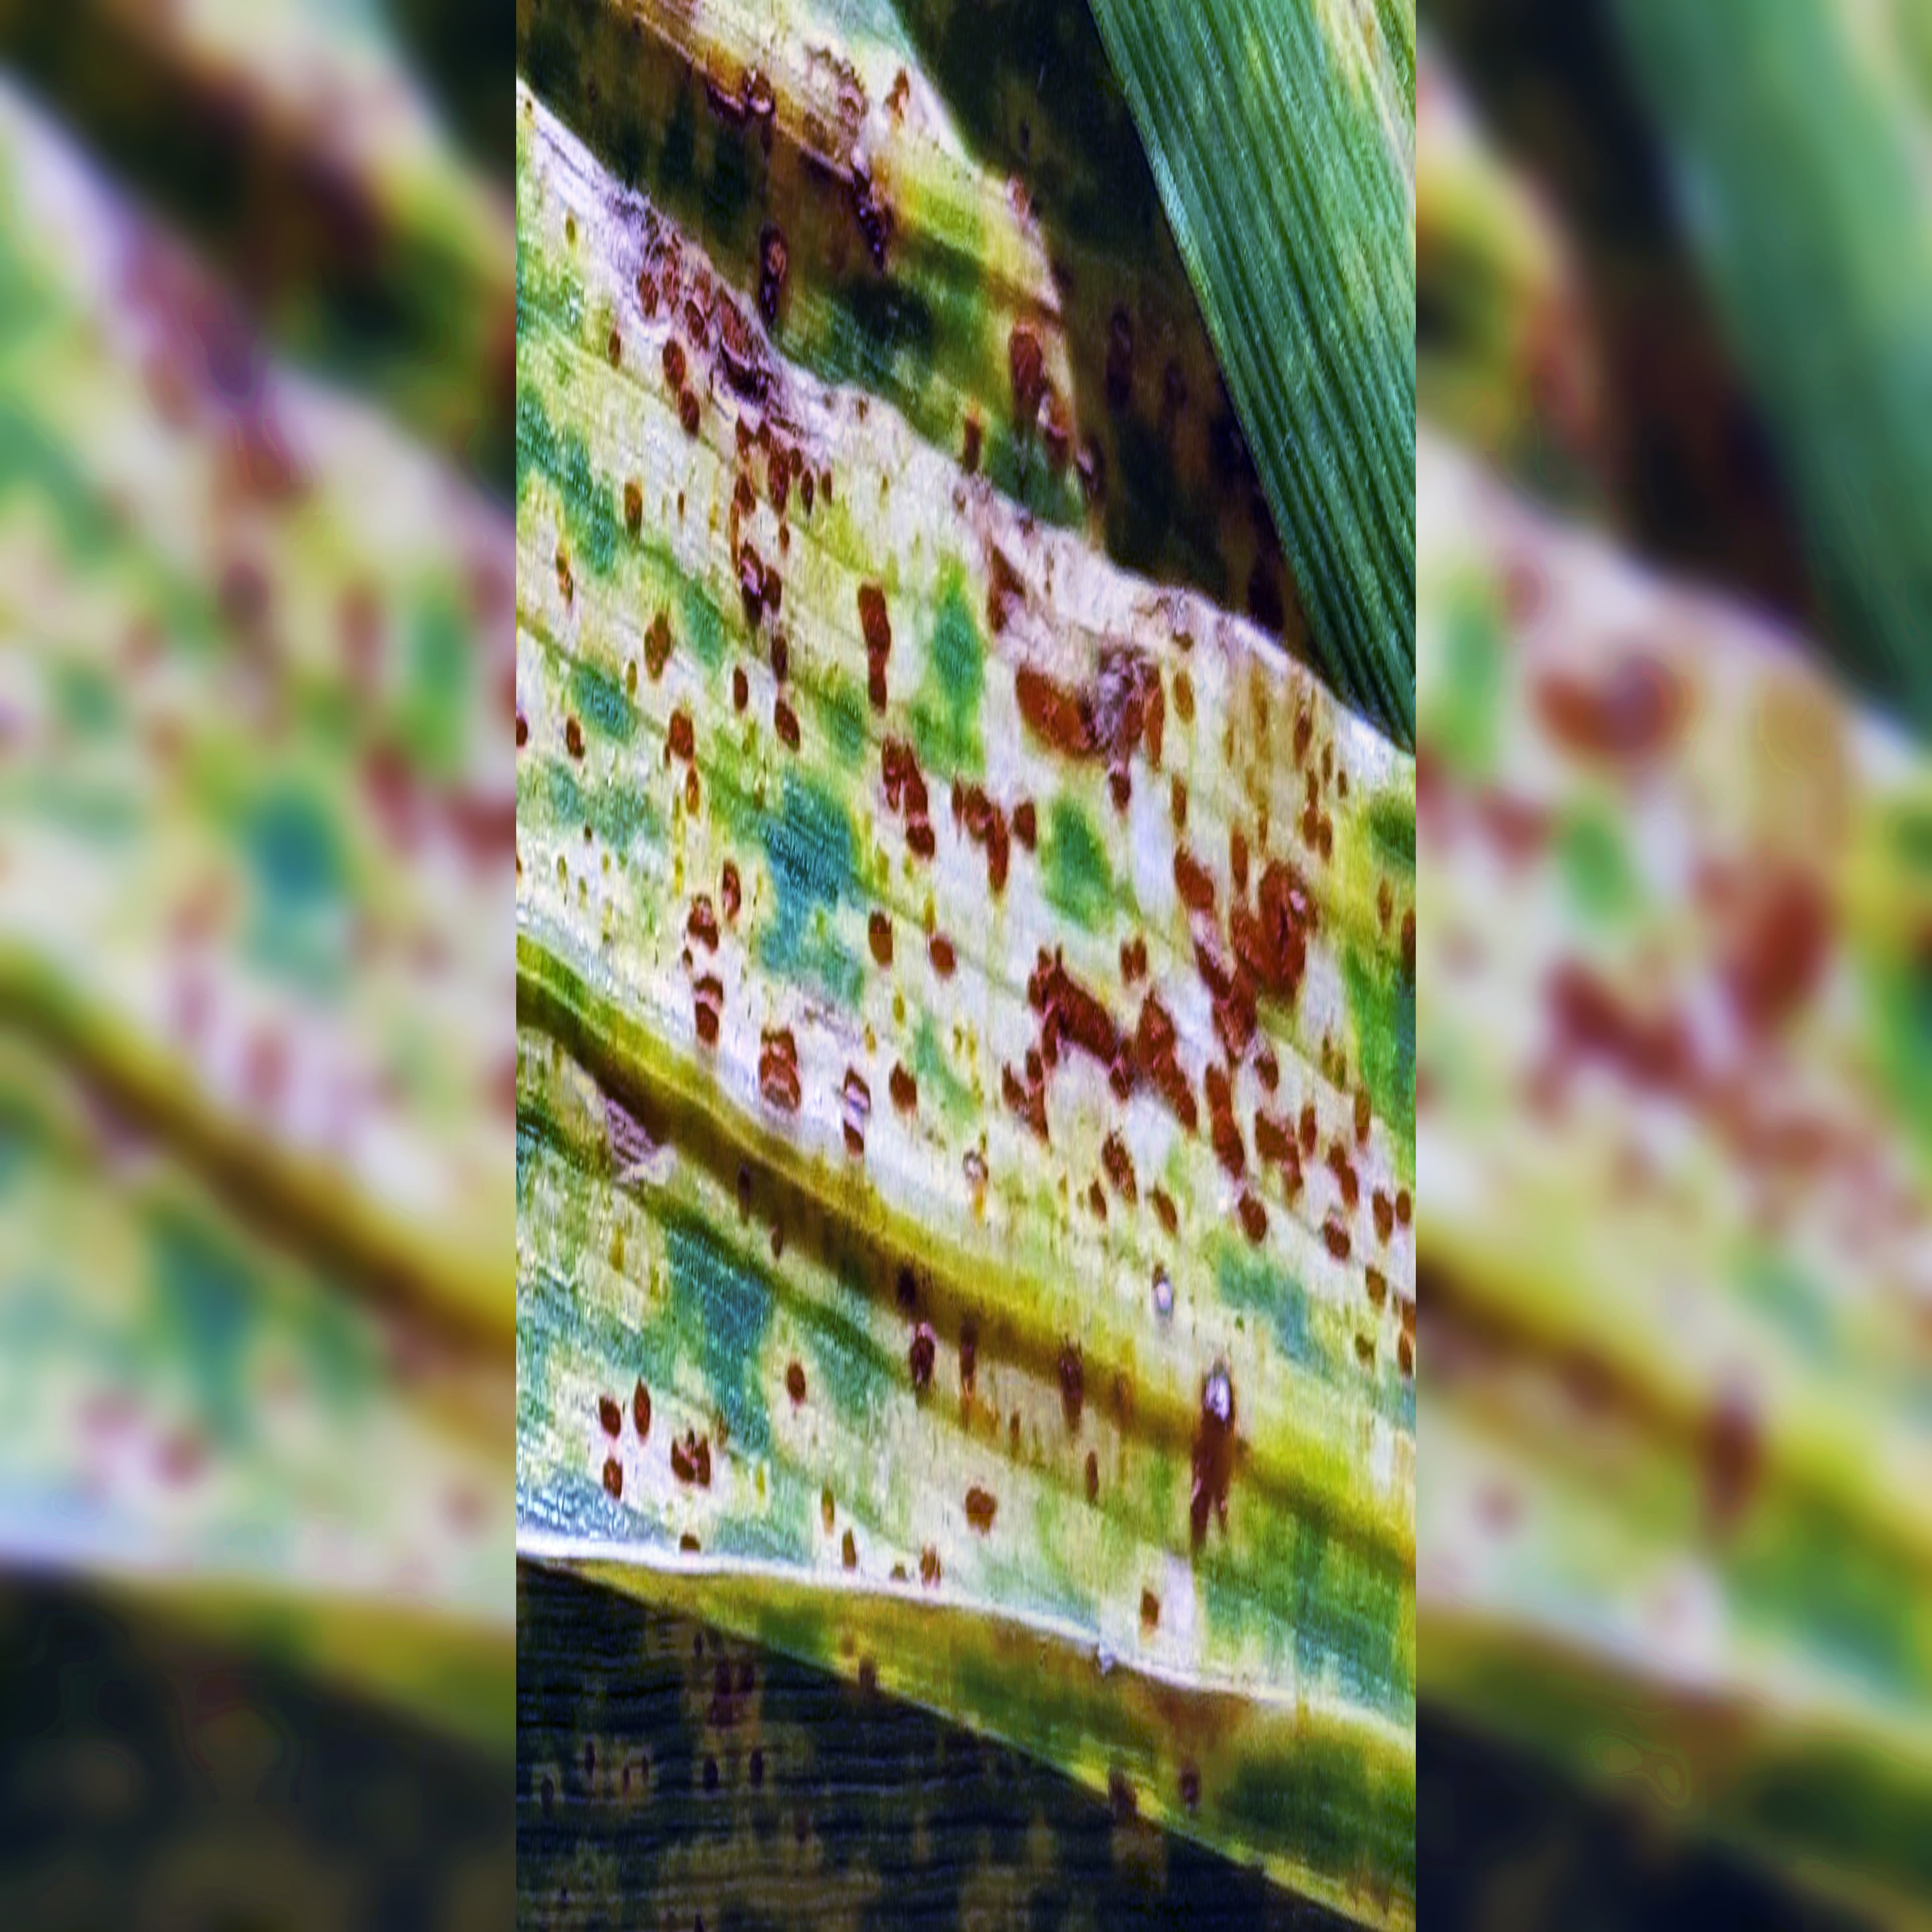Leaf Rust: (541, 280, 1391, 1706)
